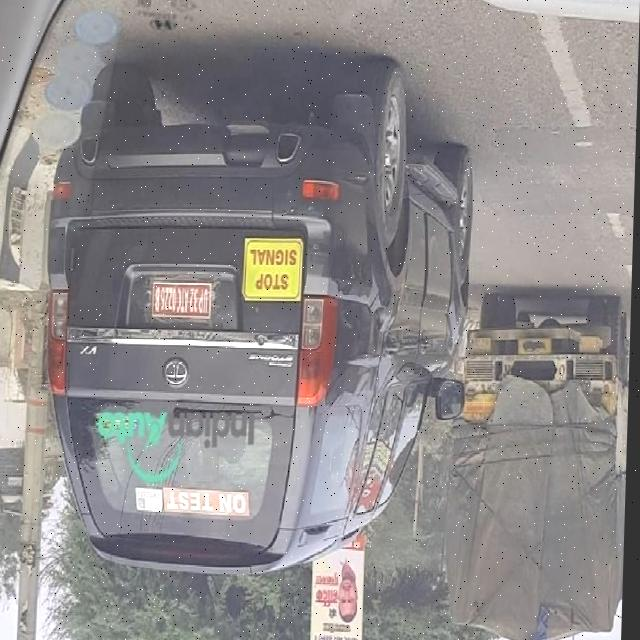plate: (150, 281, 217, 318)
